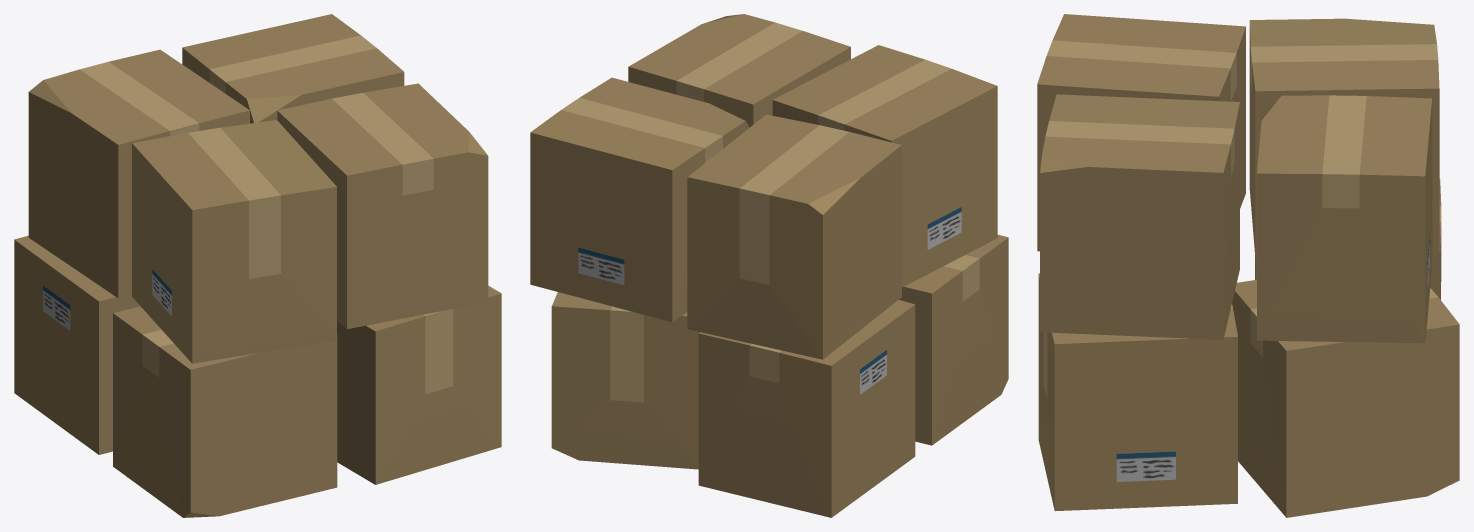
Rendered from SM_Prop_CardboardBox_Stack_01.glb.
3 renders of one model, left to right at view 1: azimuth 30°, elevation 25°; view 2: azimuth 150°, elevation 25°; view 3: azimuth 270°, elevation 25°, orthographic. The views are drawn at different scales.
Visible parts, largest first — view 1: SM_Prop_CardboardBox_Stack_01; view 2: SM_Prop_CardboardBox_Stack_01; view 3: SM_Prop_CardboardBox_Stack_01.
Boxes of the visible parts, x1,y1,x2,y2 form: SM_Prop_CardboardBox_Stack_01: (14, 14, 501, 517); SM_Prop_CardboardBox_Stack_01: (530, 14, 1008, 517); SM_Prop_CardboardBox_Stack_01: (1037, 14, 1459, 517).
Size of the model in its own units: 1.01 by 0.9167 by 1.04.
1 material, 1 textured.
